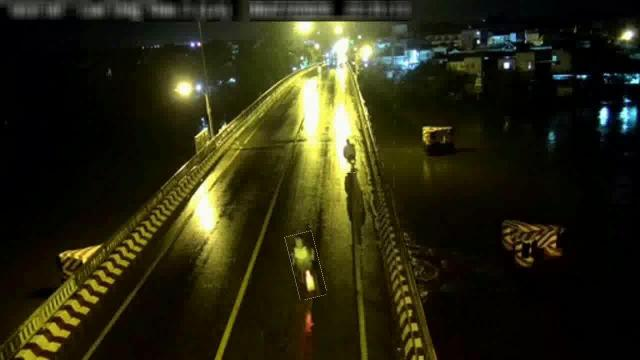Bike: (288, 232, 324, 300), (340, 135, 360, 173)
